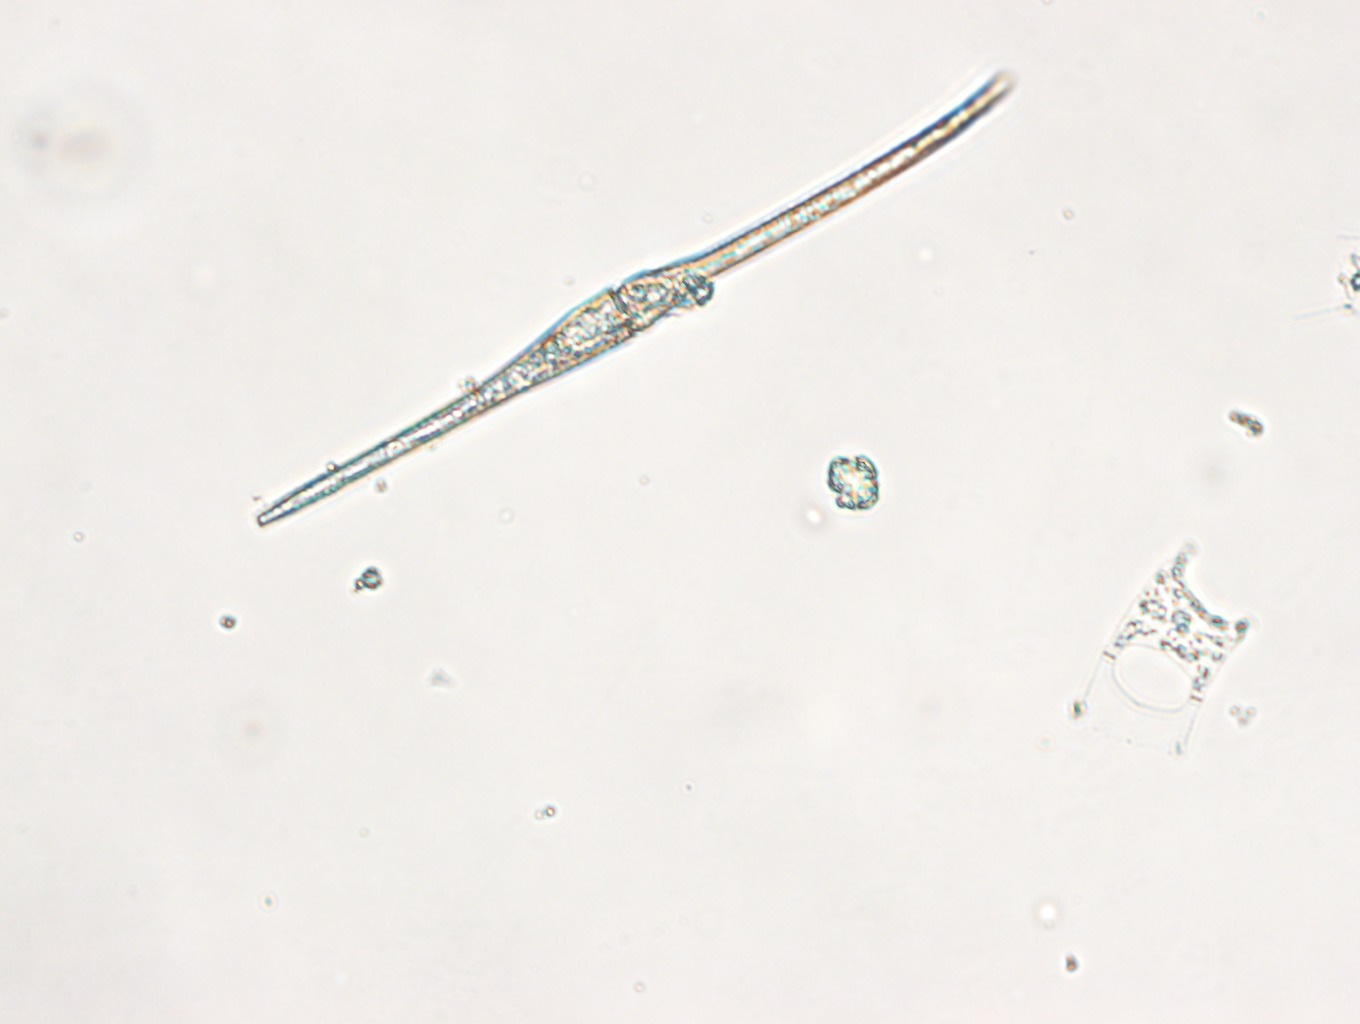ceratium fusus: (250, 57, 1042, 535)
